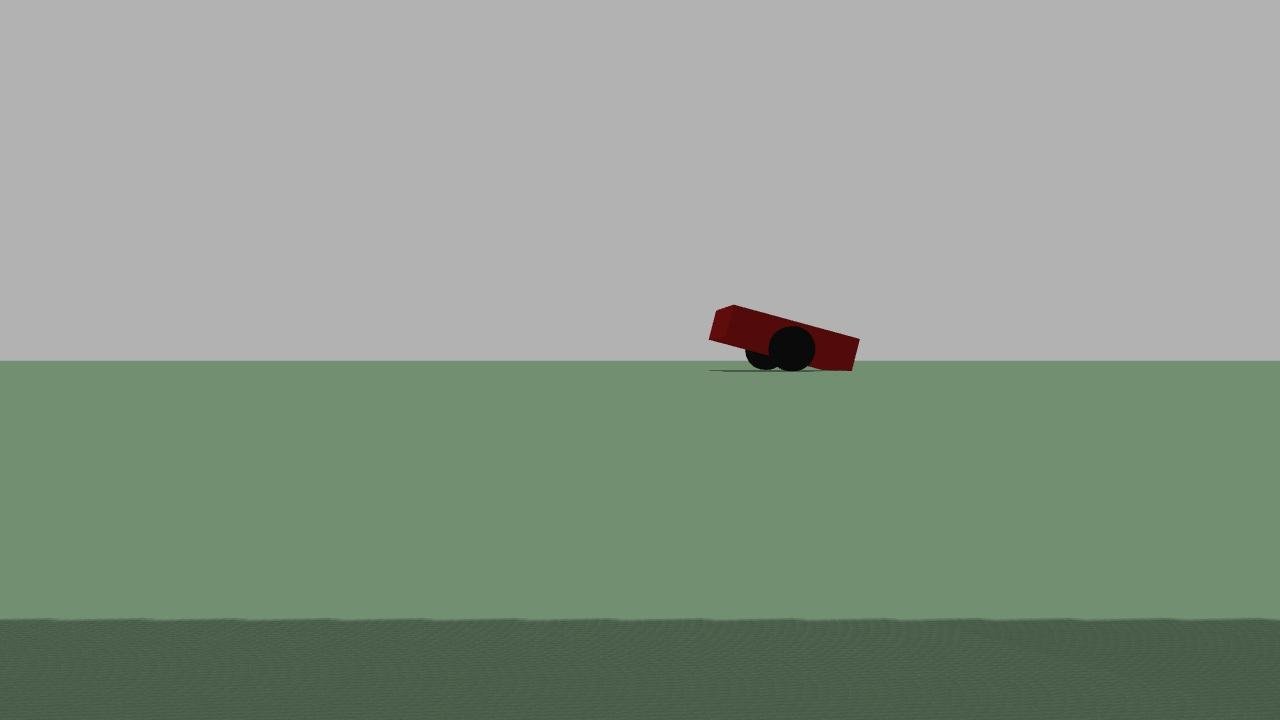ground_vehicle: (698, 297, 868, 391)
